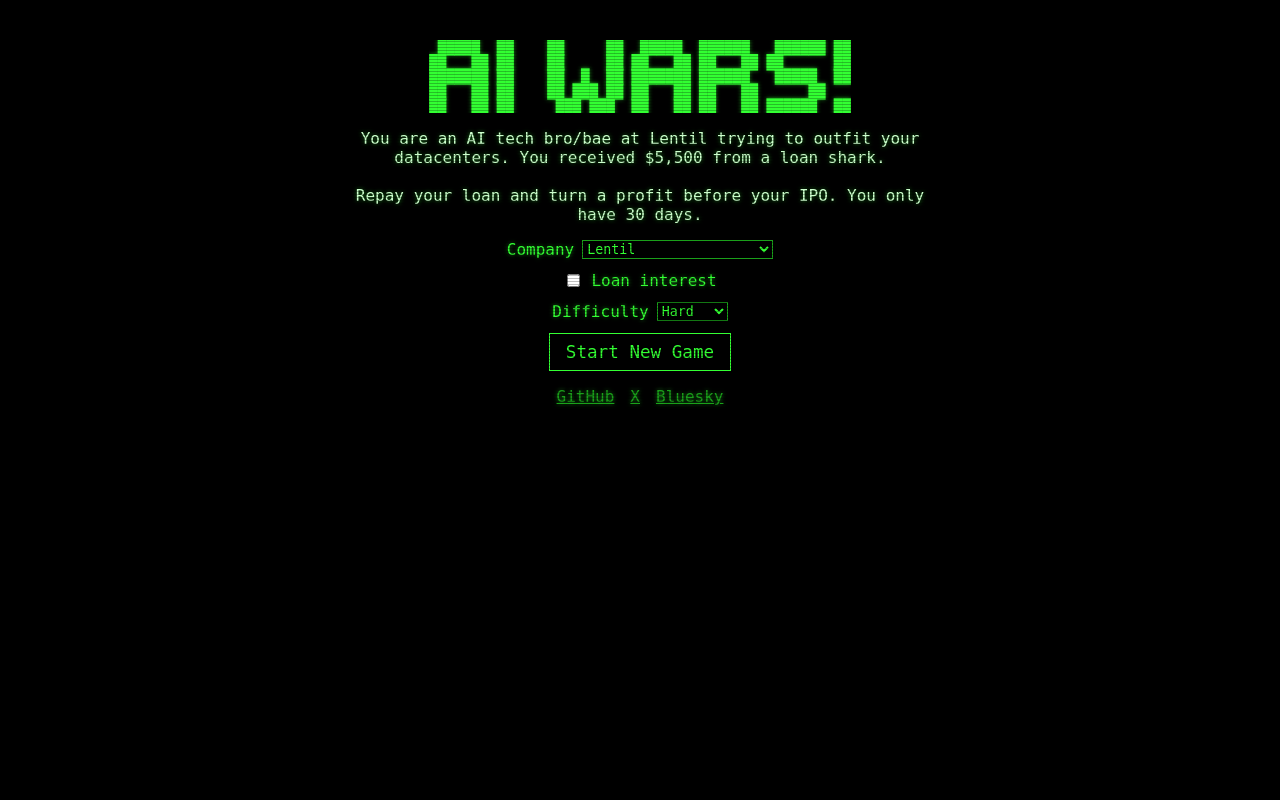
Test case: AiWars › New game mid-game goes back to the start screen without saving a score
Select "SMuC" in the dropdown labelled "Company" at [678, 250], box [582, 240, 773, 259]
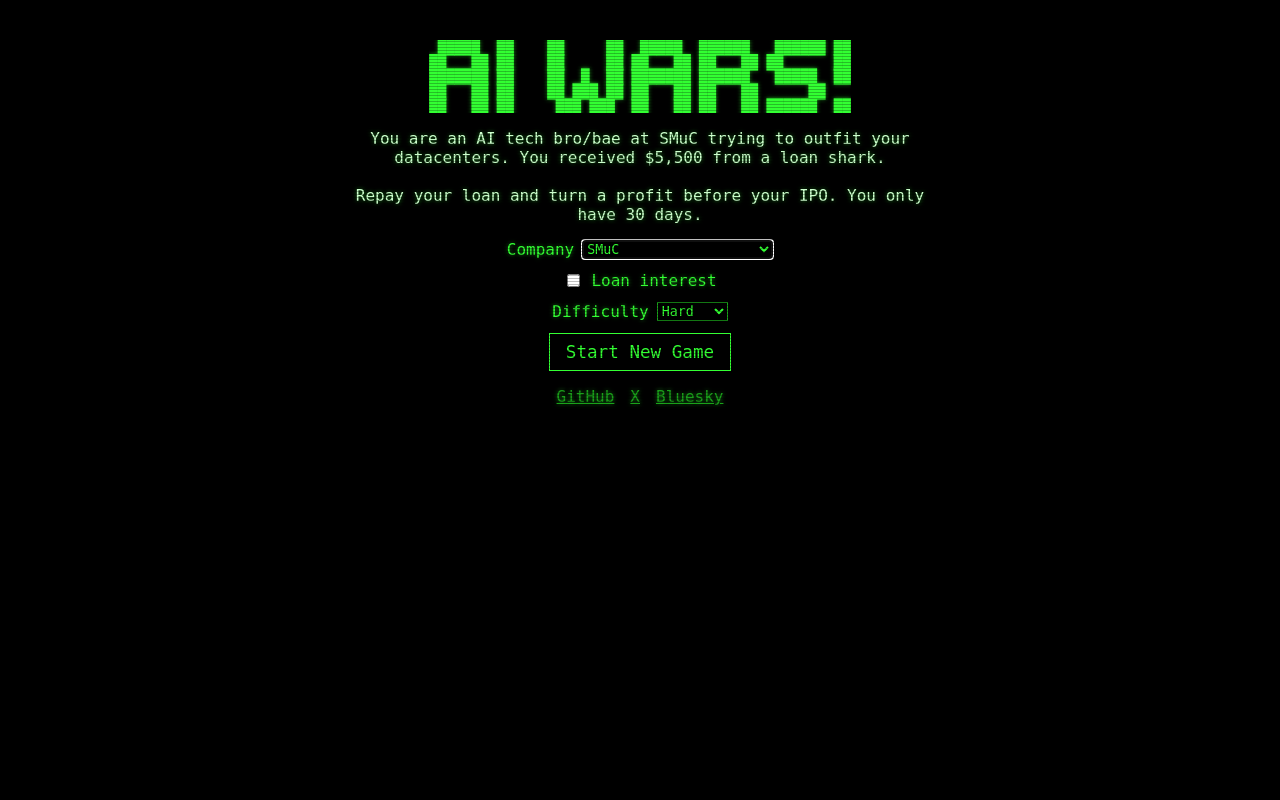
Click the button "Start New Game" at [640, 352], box [549, 333, 731, 371]
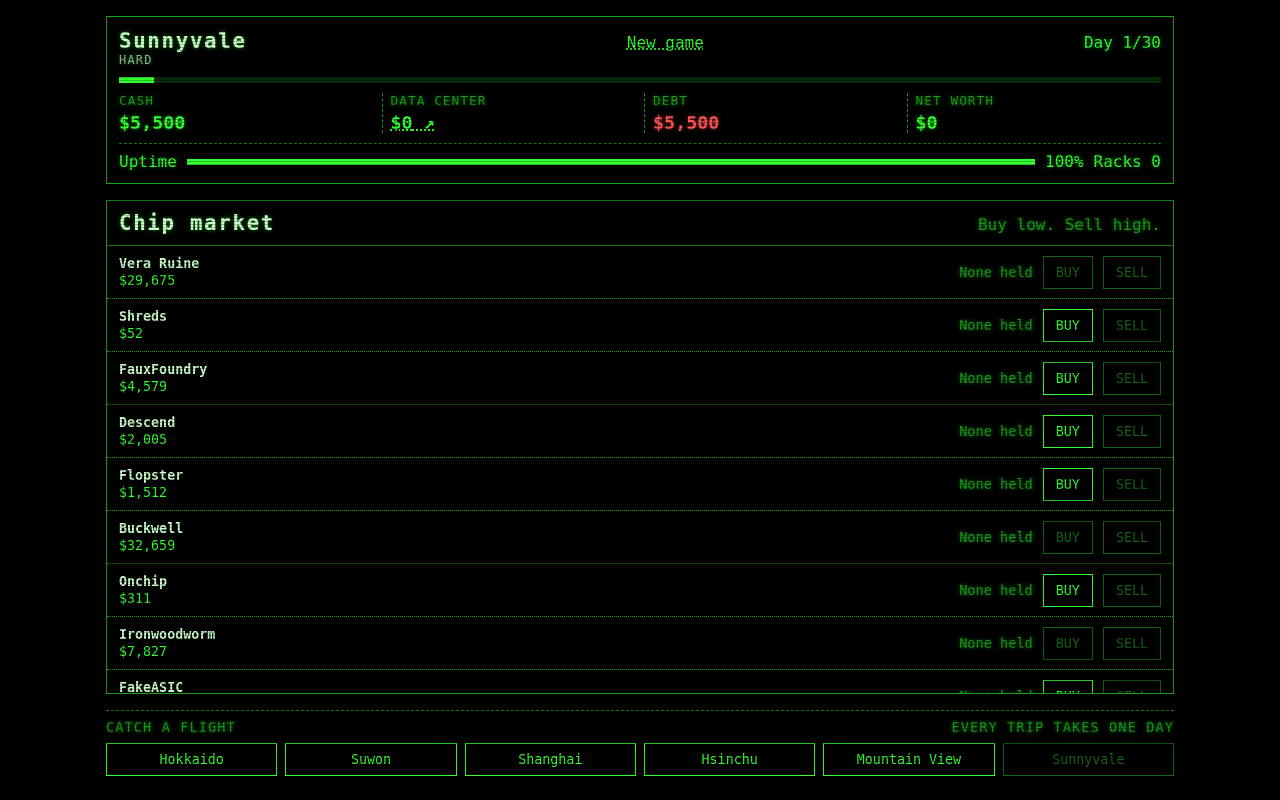
Click the button "New game" at [665, 42], box [627, 33, 704, 52]
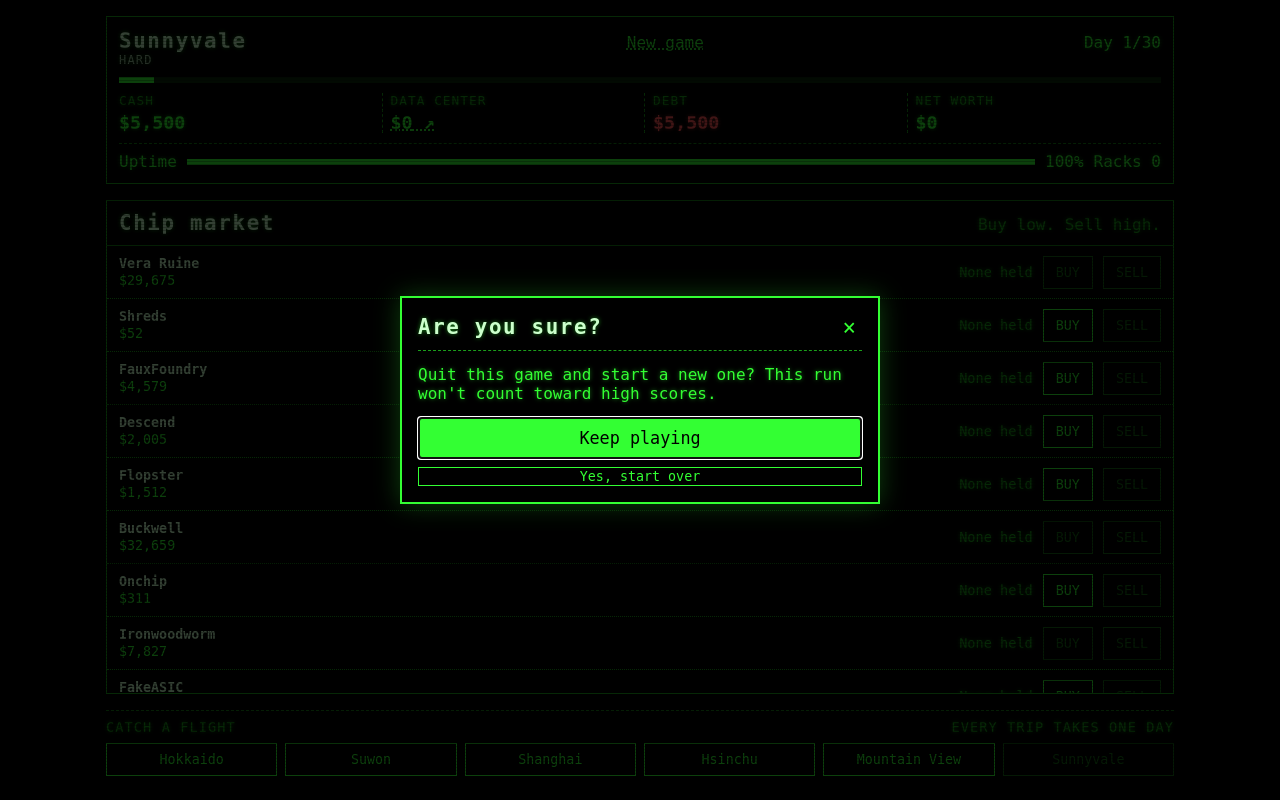
Click the button "Yes, start over" at [640, 476], box [418, 467, 862, 486]
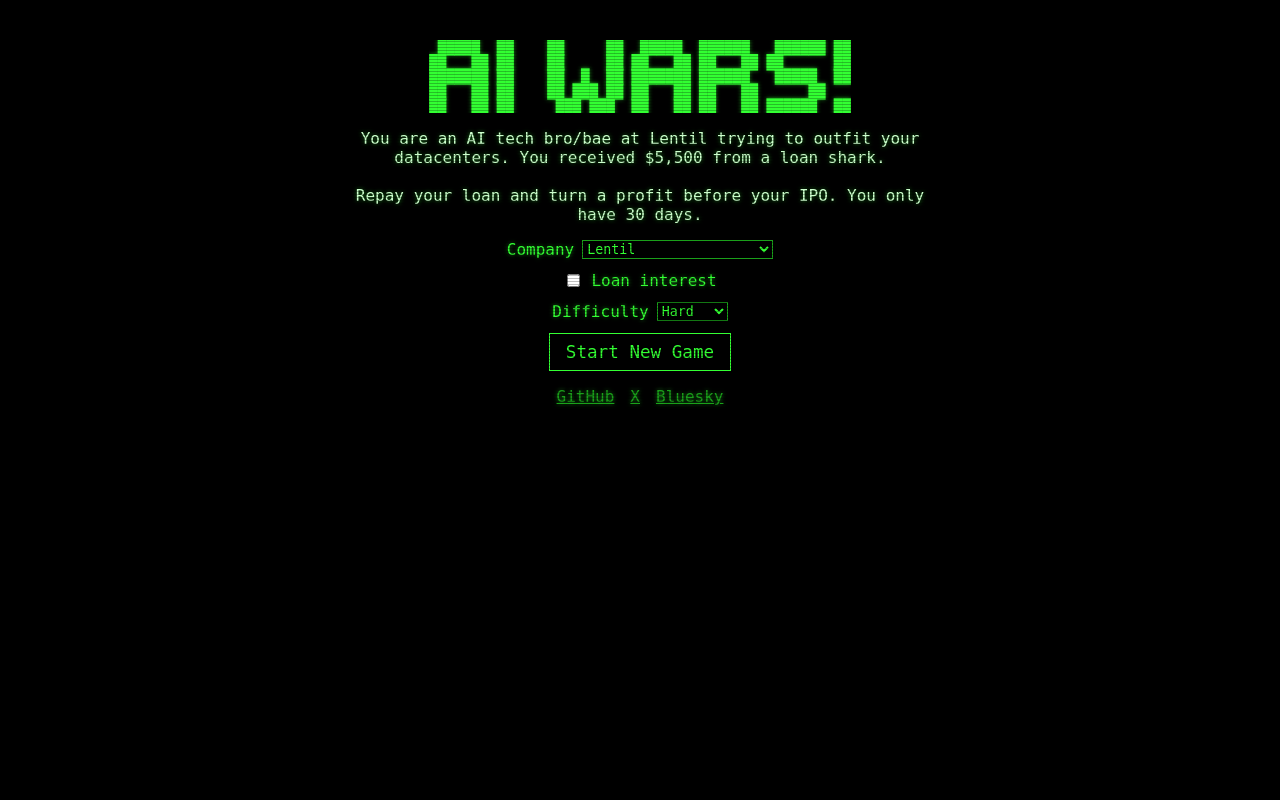
expect the button "Start New Game" is shown: met, box [549, 333, 731, 371]
